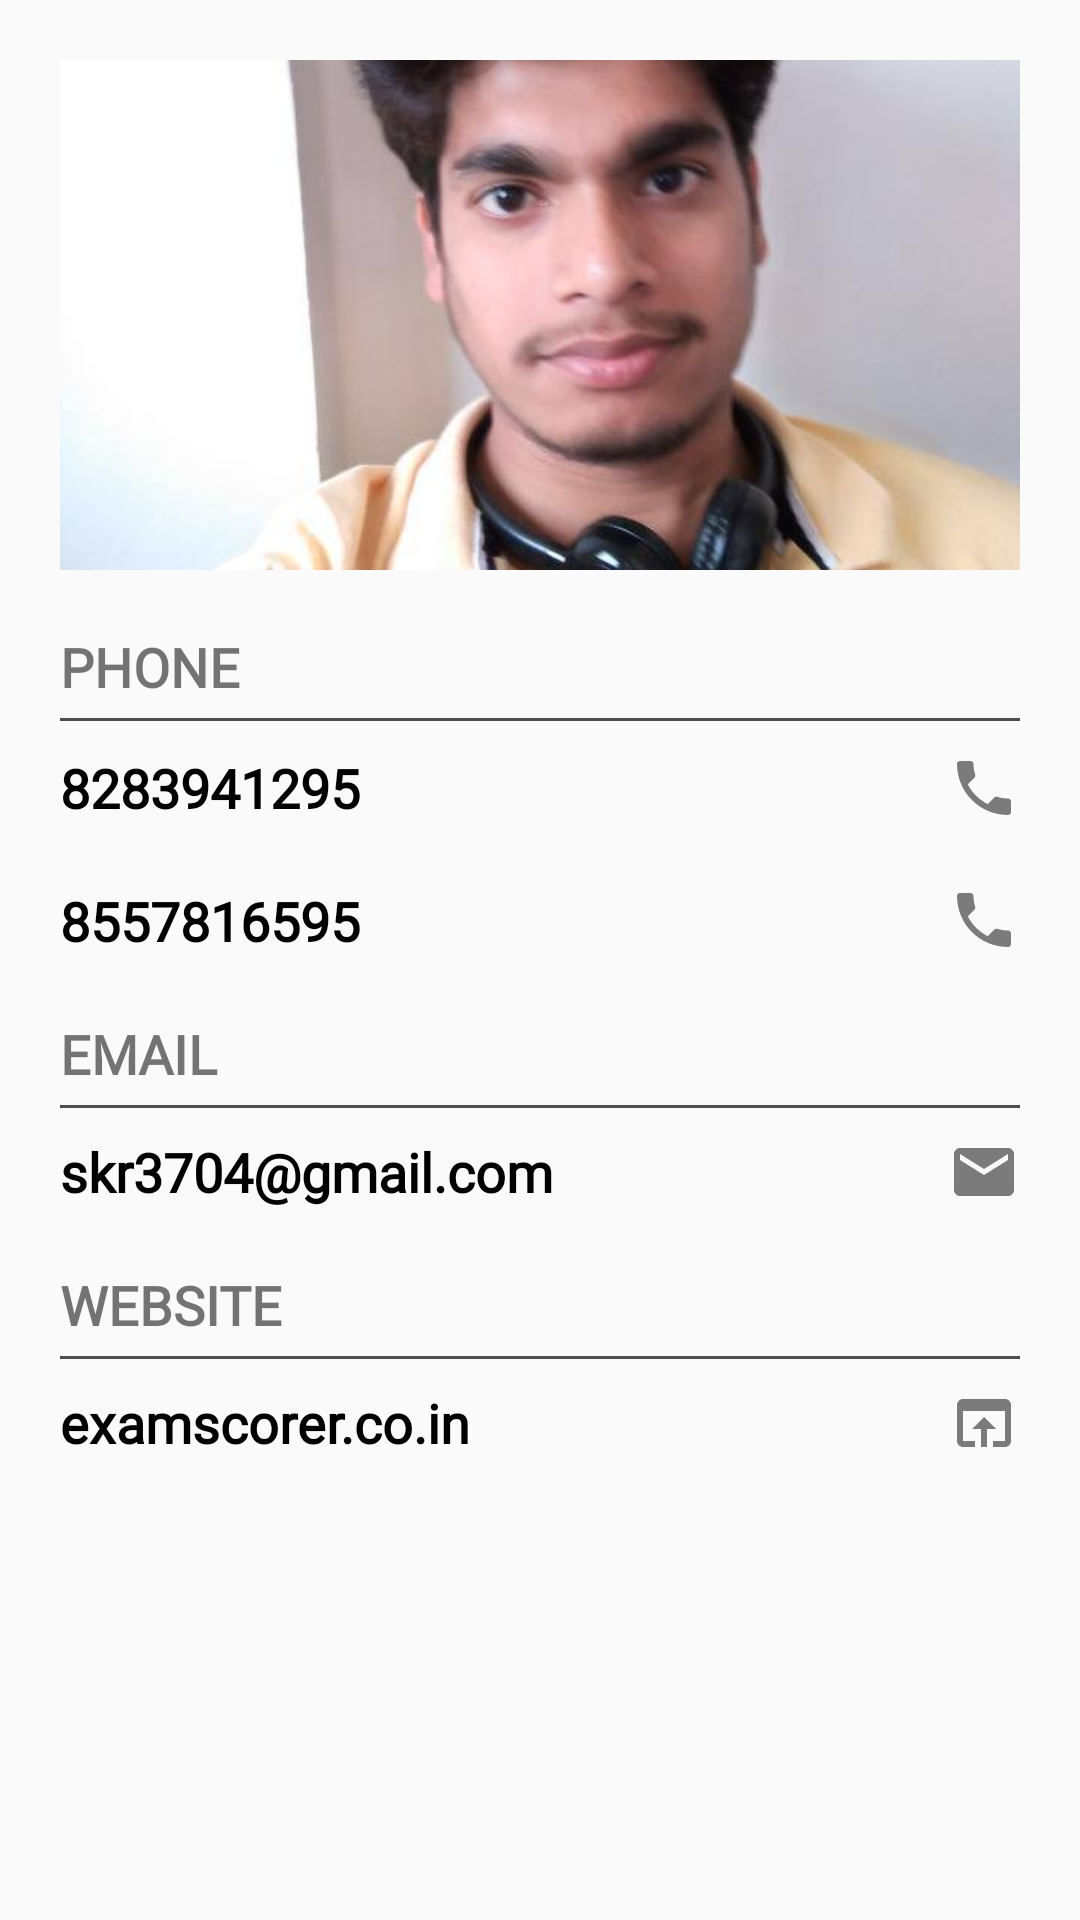

Locate icon controls on the screen. Image size 1080 x 1920, boxes as (x1, y1, x2, y2).
call: (957, 761, 1011, 815), (957, 893, 1011, 947)
email: (954, 1148, 1014, 1196)
open in browser: (957, 1399, 1011, 1447)
